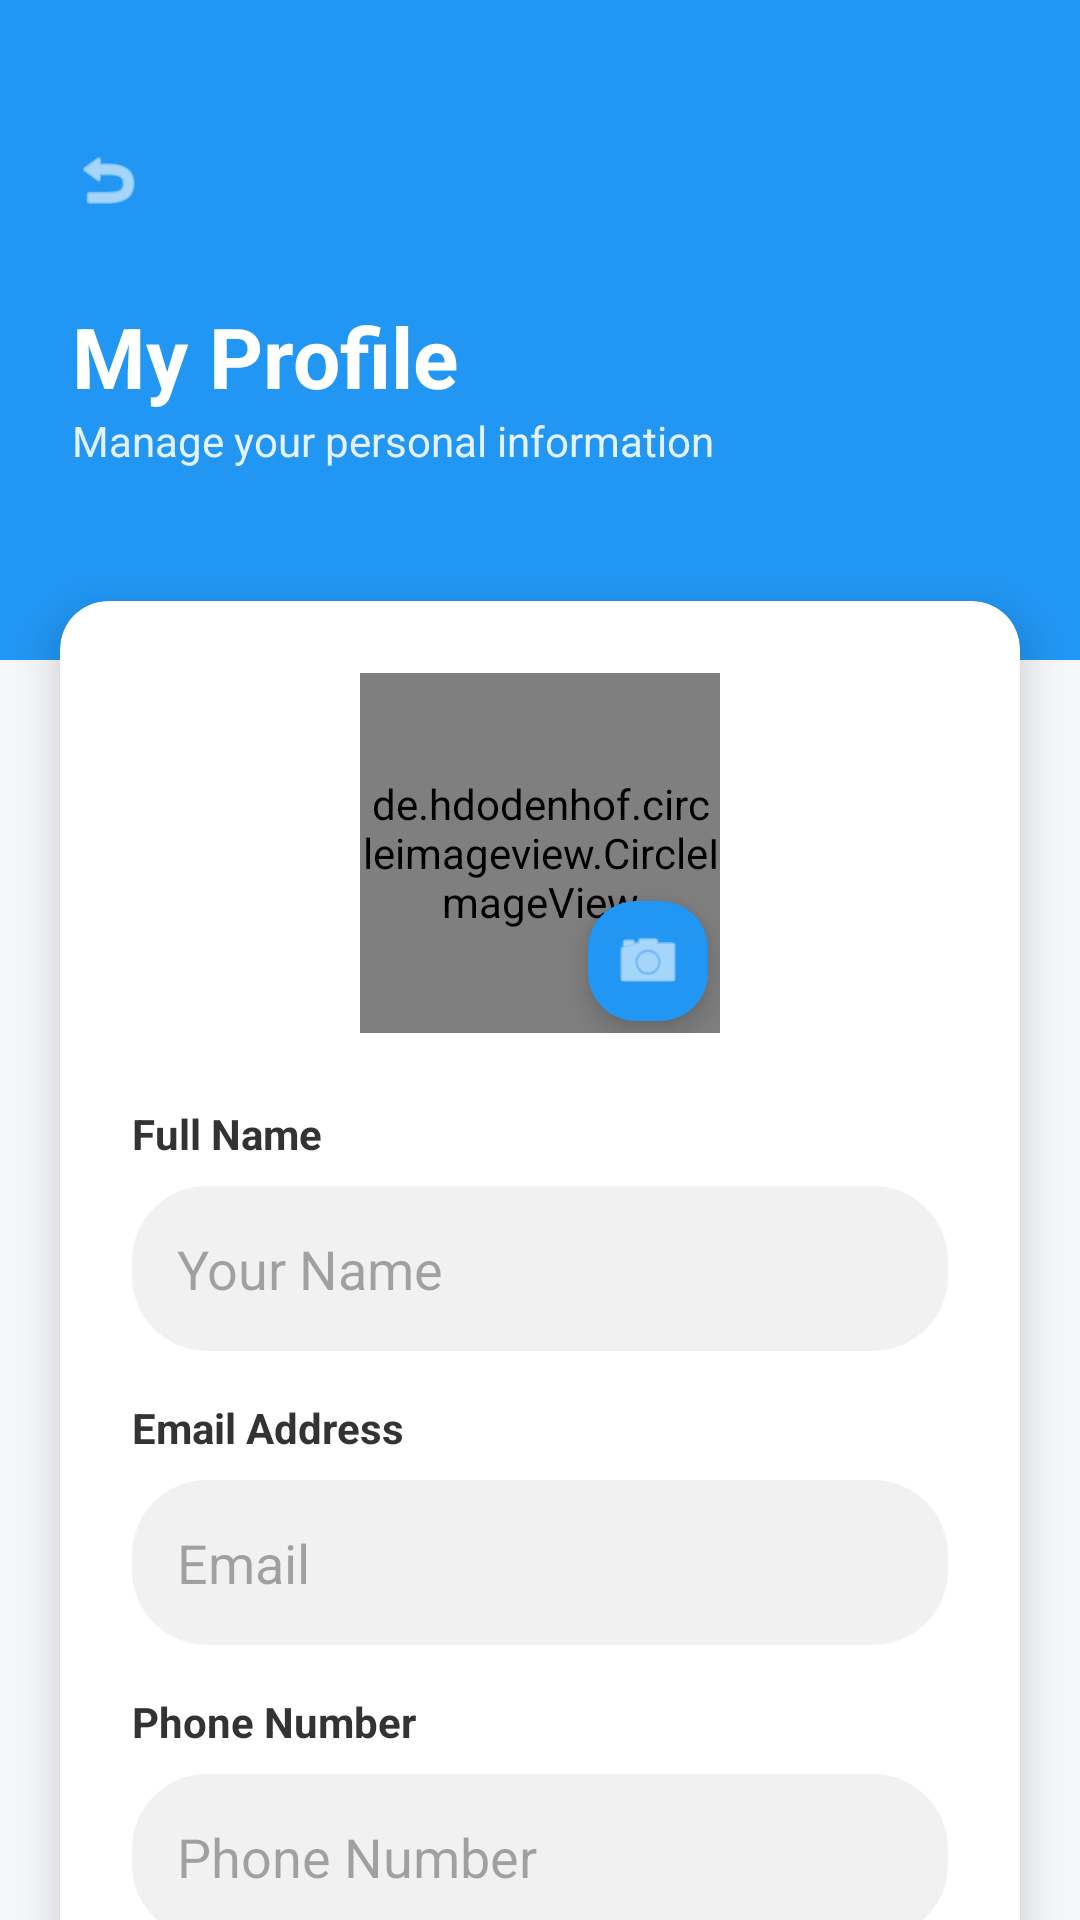

Point at icon controls on the screen. Image size 1080 × 1920, points as [x,y].
camera: [643,955]
revert: [109,180]
